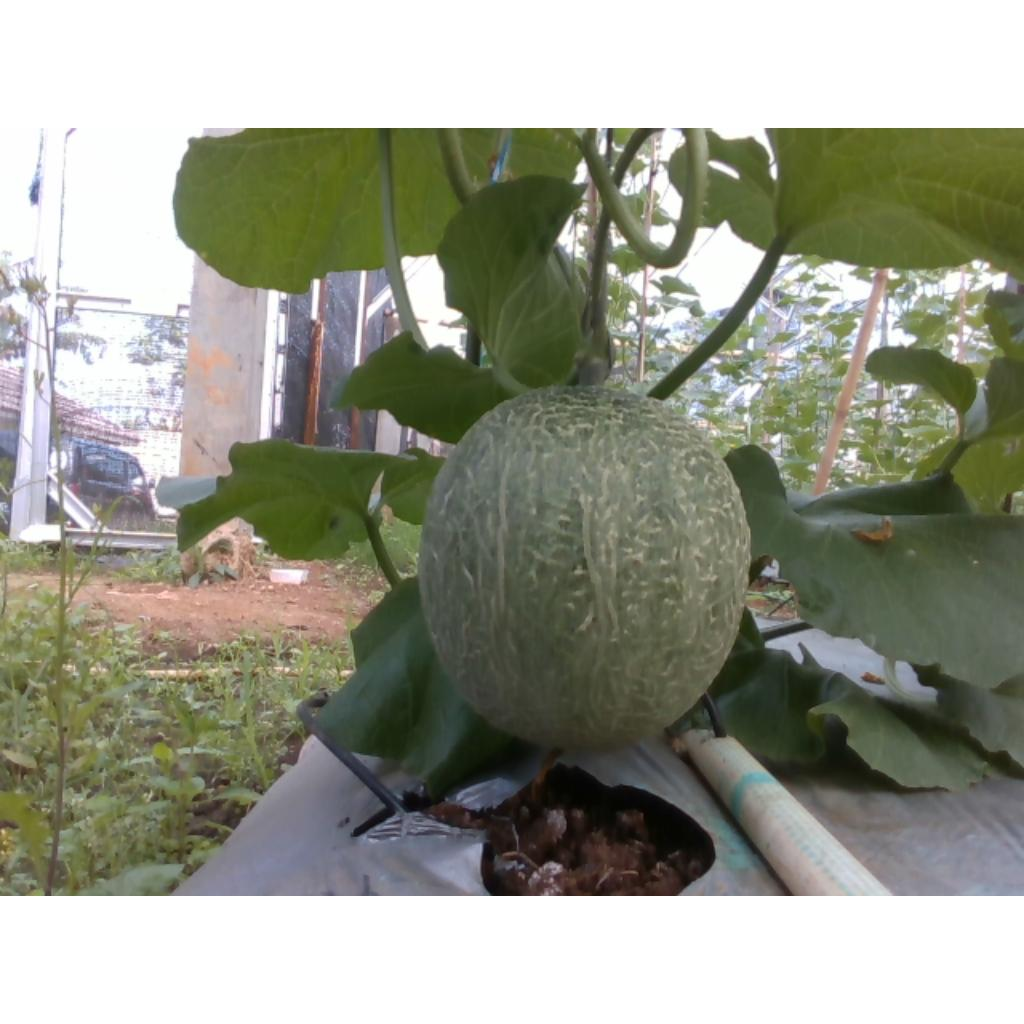melon: (422, 387, 752, 748)
